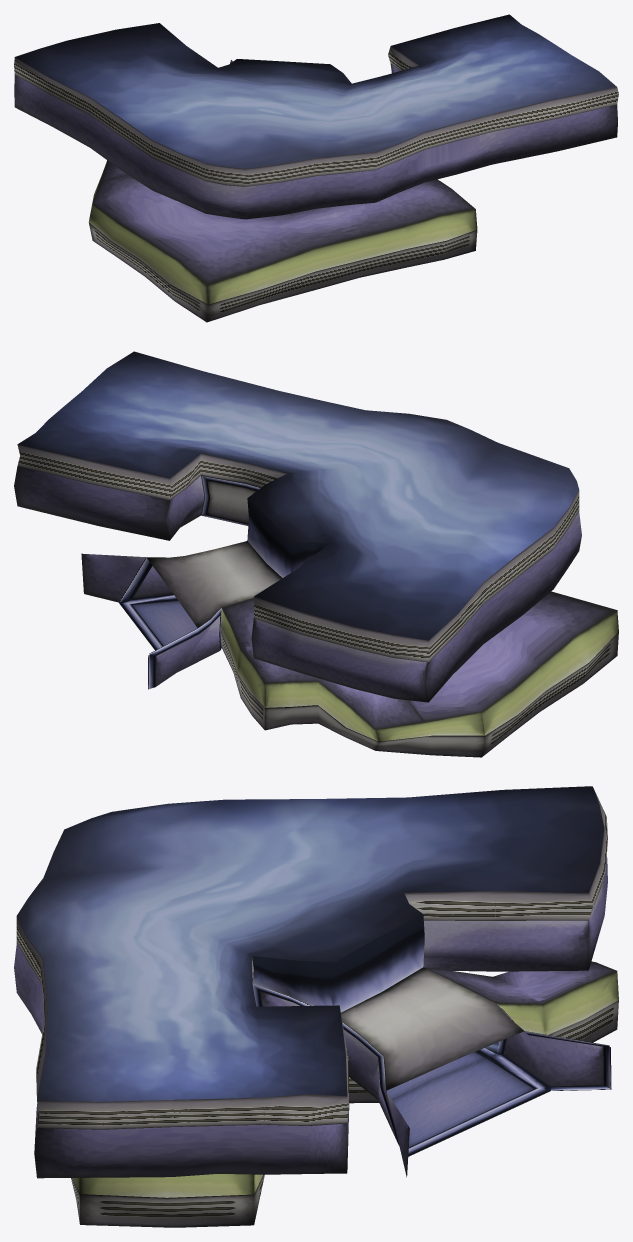
The model's file is bunker_dungeon_repair_shop.DAE.
3 renders of one model, top to bottom at view 1: azimuth 30°, elevation 25°; view 2: azimuth 150°, elevation 25°; view 3: azimuth 270°, elevation 25°, orthographic. The views are drawn at different scales.
Visible parts, largest first — view 1: Box08; view 2: Box08; view 3: Box08.
Part boxes in pixels (box(x1,y1,x2,y2)): Box08: box(14, 14, 618, 322); Box08: box(14, 351, 618, 757); Box08: box(14, 786, 618, 1227).
Bounding box in the file's own units: 109 × 35.84 × 87.2.
